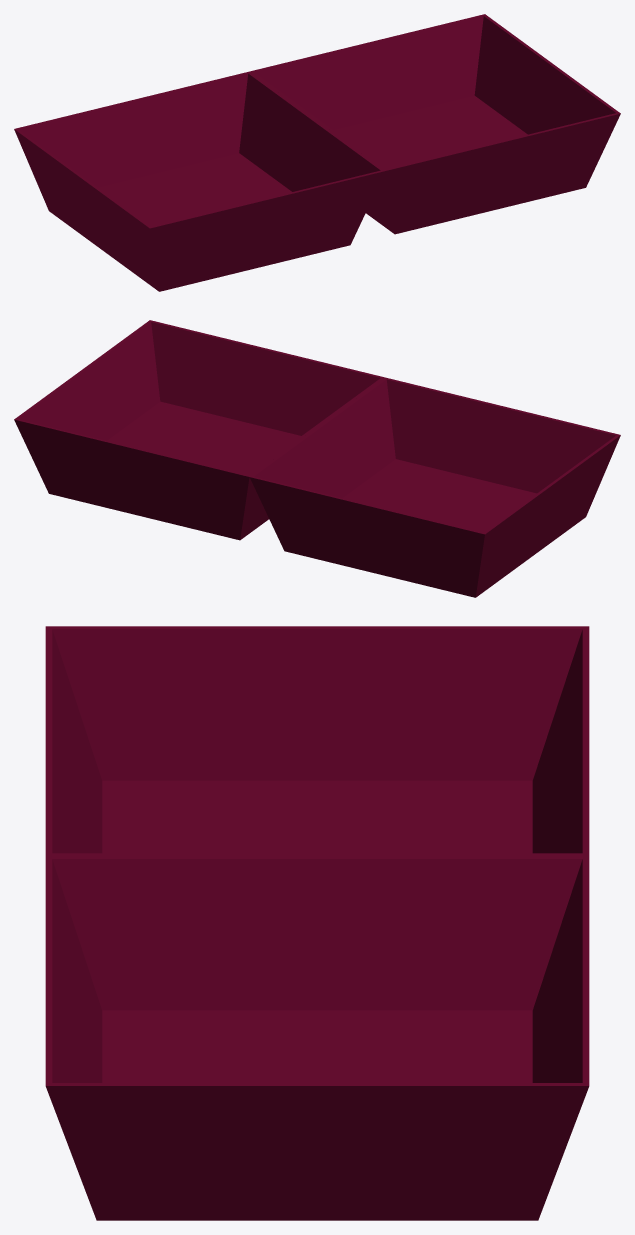
The model's file is BurgerBox.FBX.
The picture shows the model from 3 angles, top to bottom: view 1: azimuth 30°, elevation 25°; view 2: azimuth 150°, elevation 25°; view 3: azimuth 270°, elevation 25°; orthographic projection. The views are drawn at different scales.
Visible parts, largest first — view 1: BoxTop, BoxBottom; view 2: BoxTop, BoxBottom; view 3: BoxBottom, BoxTop.
Part boxes in pixels (x1,y1,x2,y2): BoxTop: (14,71,385,291); BoxBottom: (250,14,620,234); BoxTop: (249,377,620,597); BoxBottom: (14,320,384,540); BoxBottom: (45,856,589,1220); BoxTop: (45,626,589,855).
Bounding box in the file's own units: 7.57 × 1.2 × 3.78.
